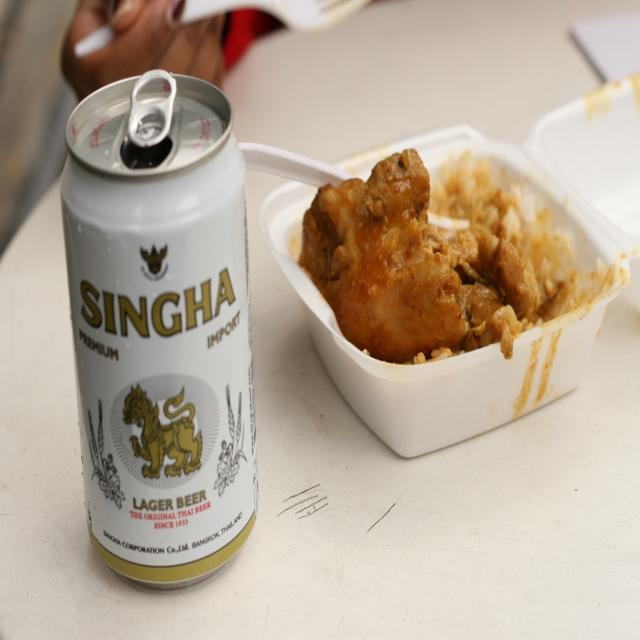singha: (70, 258, 256, 532)
